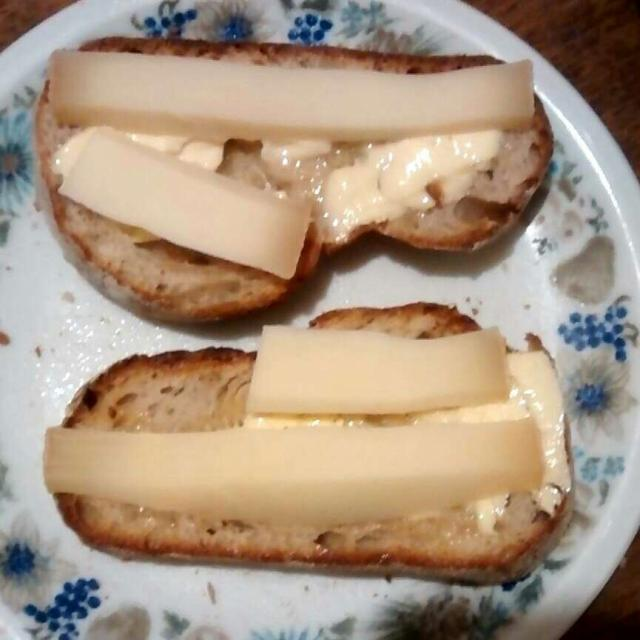bread-white: (30, 33, 582, 570)
butter: (103, 121, 585, 536)
gruyere: (38, 41, 567, 512)
